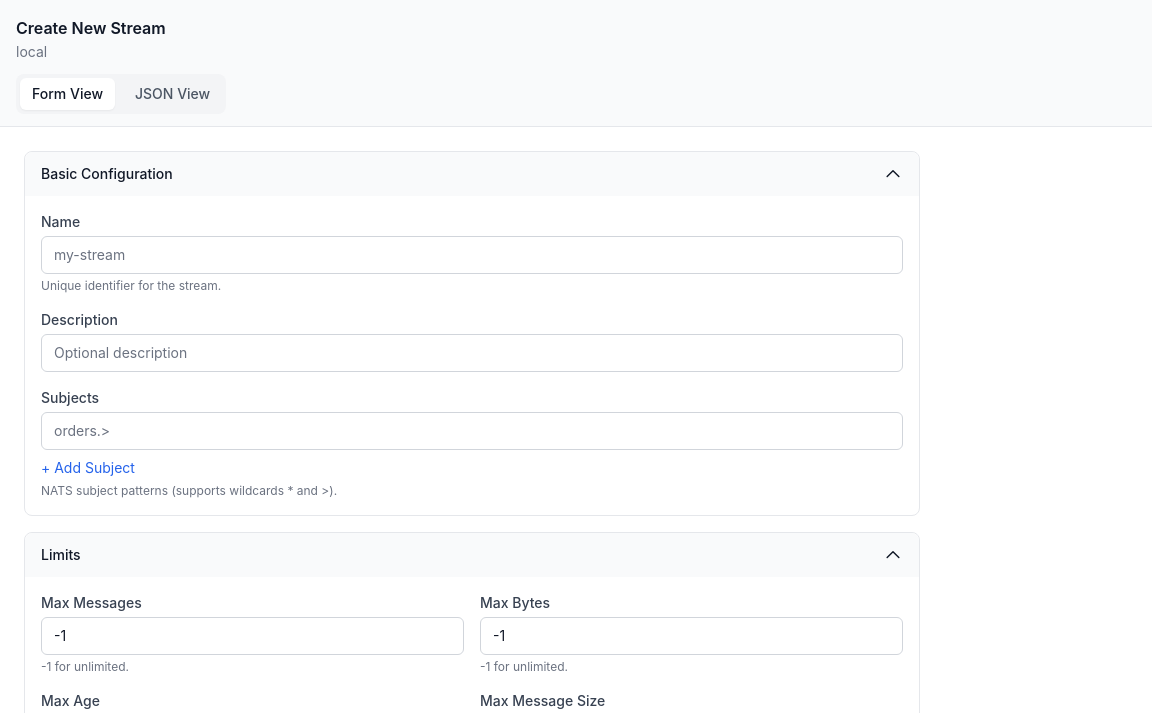
Test: CreateStreamPage › refuses a subject with an empty part
Type "A3" into the field with placeholder "my-stream" at (472, 255), box [41,236,903,274]
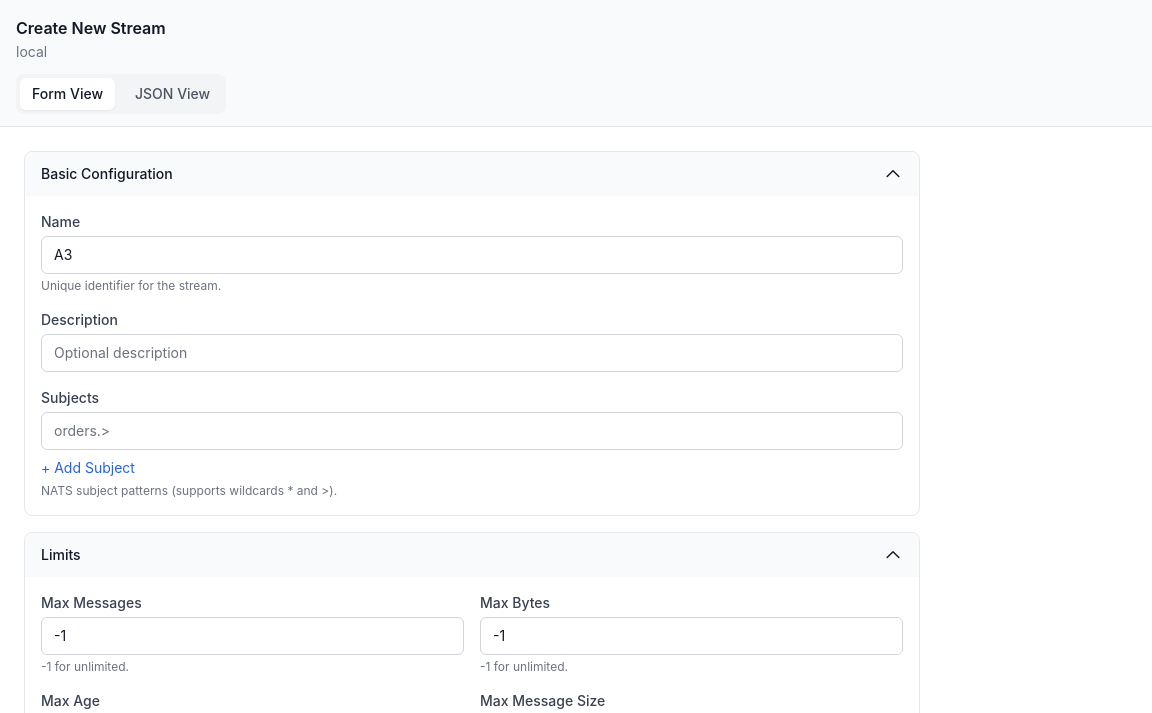
Type "a3..x" into the field with placeholder "orders.>" at (472, 431), box [41,412,903,450]
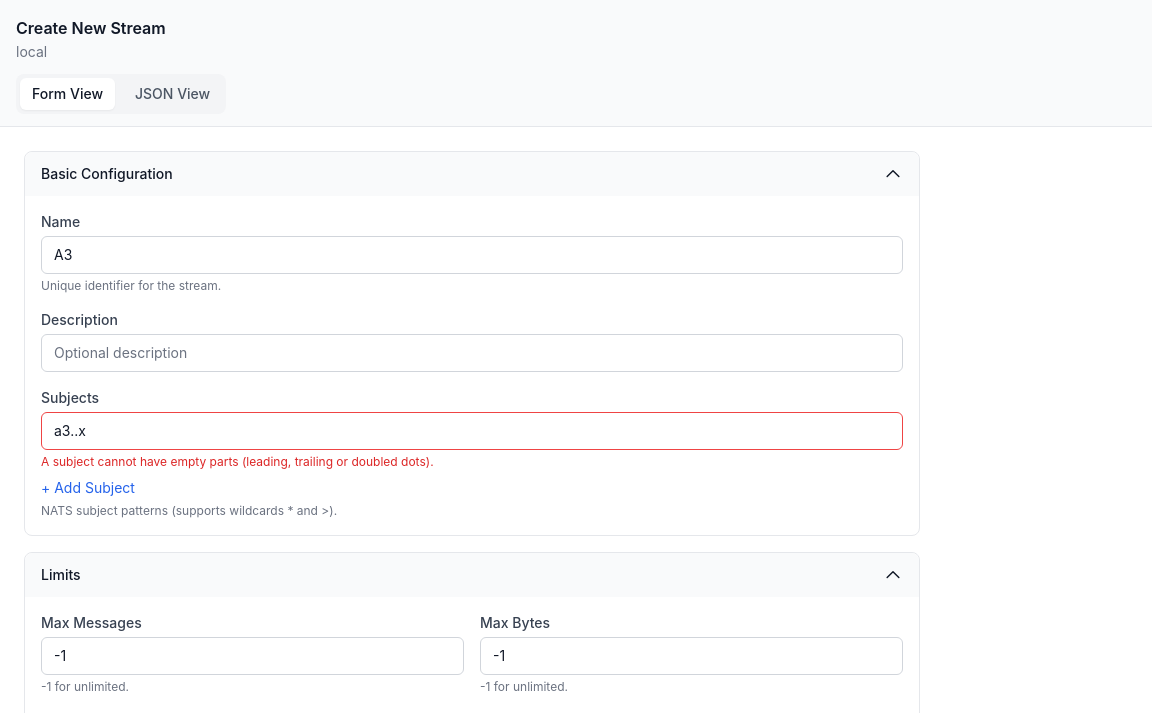
Expected: the text "empty parts" is shown, [41,454,434,469]
